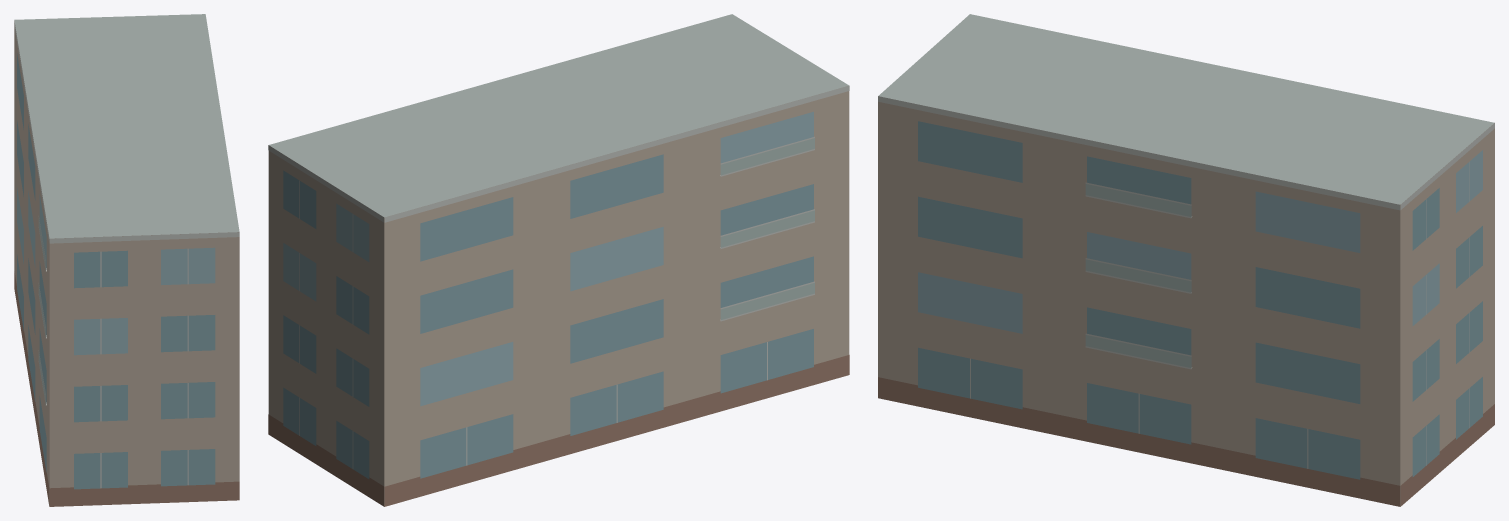
File: survey-upis-32524642.glb
3 views of the same model, side by side, from view 1: azimuth 30°, elevation 25°; view 2: azimuth 150°, elevation 25°; view 3: azimuth 270°, elevation 25° (orthographic). The views are drawn at different scales.
Parts seen in each view (by area): view 1: survey-upis-32524642.tmp; view 2: survey-upis-32524642.tmp; view 3: survey-upis-32524642.tmp.
Part boxes in pixels (box(x1,y1,x2,y2)): survey-upis-32524642.tmp: box(14, 14, 239, 506); survey-upis-32524642.tmp: box(268, 14, 849, 506); survey-upis-32524642.tmp: box(878, 14, 1494, 506).
Size of the model in its own units: 17.76 by 13.1 by 24.25.
